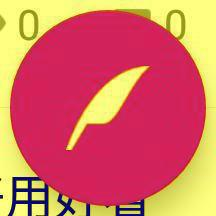ImgButton: (1, 1, 215, 215)
